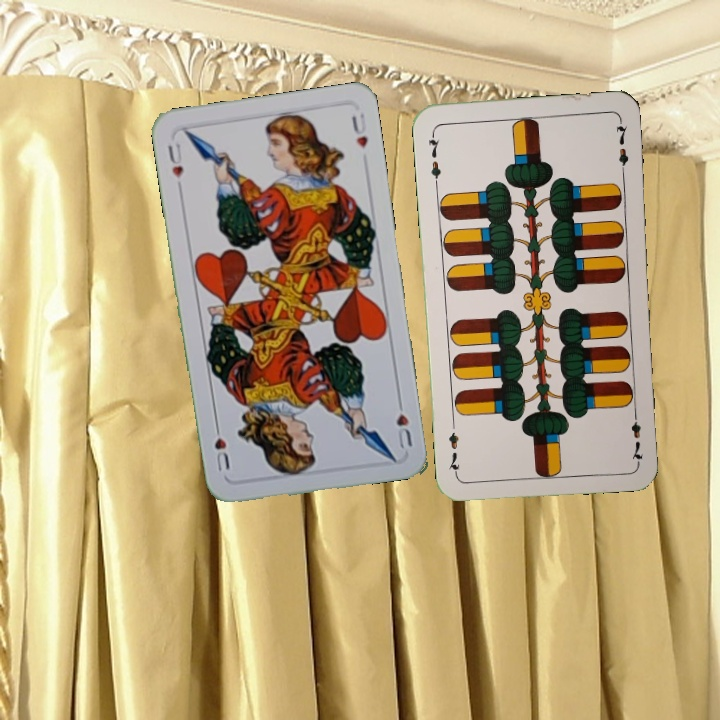E7: (424, 128, 444, 187), (626, 405, 645, 464)
HU: (392, 394, 415, 451), (163, 139, 186, 182)
